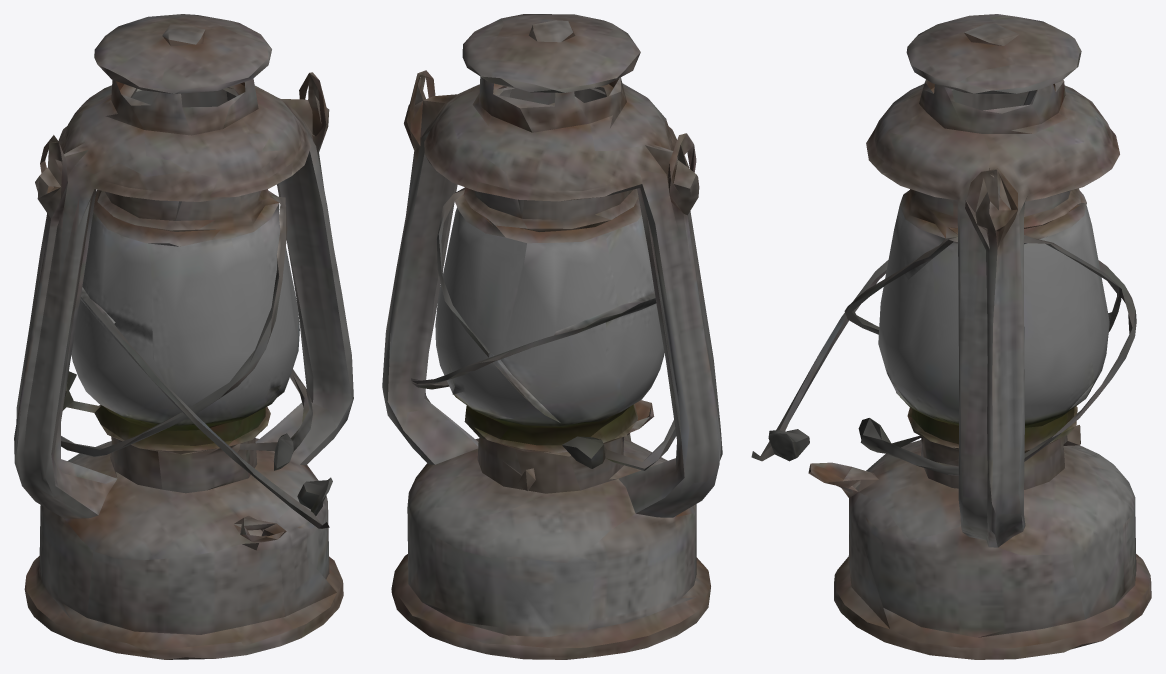
The model's file is lantern.glb.
The picture shows the model from 3 angles, left to right: view 1: azimuth 30°, elevation 25°; view 2: azimuth 150°, elevation 25°; view 3: azimuth 270°, elevation 25°; orthographic projection.
Visible parts, largest first — view 1: lantern; view 2: lantern; view 3: lantern.
Boxes of the visible parts, x1=… form: lantern: x1=14, y1=14, x2=353, y2=659; lantern: x1=382, y1=14, x2=722, y2=659; lantern: x1=751, y1=14, x2=1151, y2=659.
Size of the model in its own units: 0.2182 by 0.35 by 0.2251.
1 material, 1 textured.
